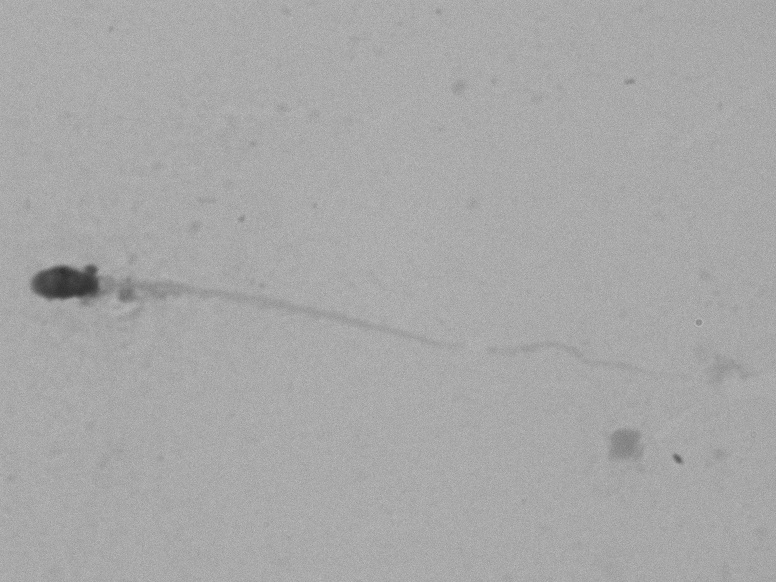Abnormal: (20, 227, 672, 415)
